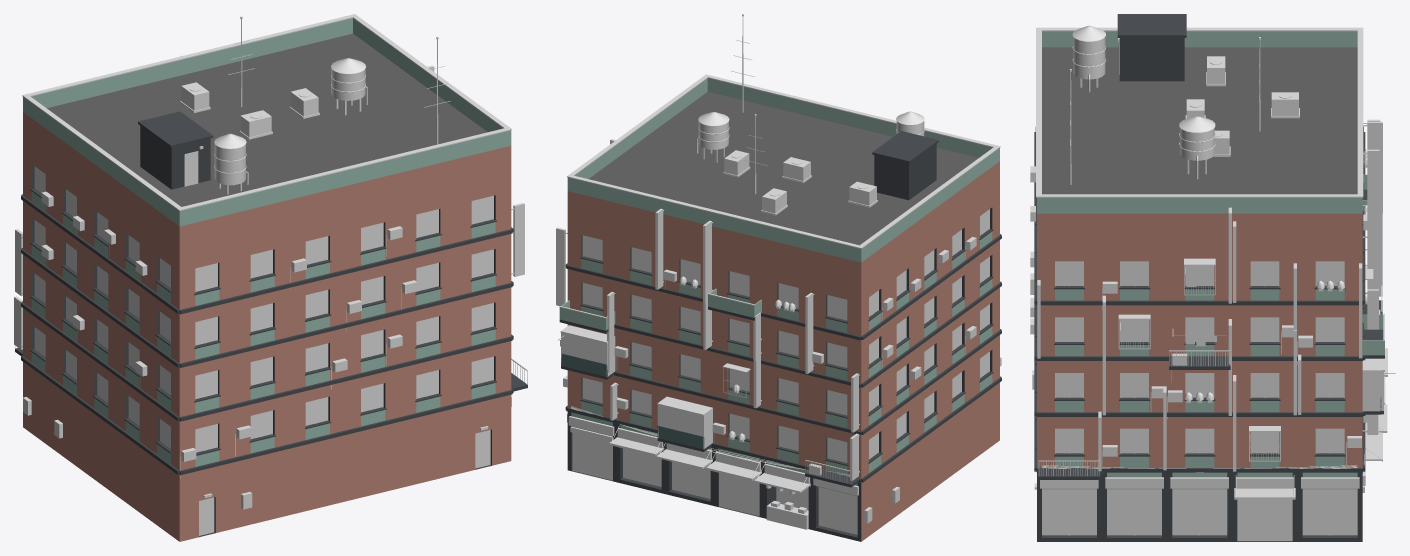
File: Plaza_Block_06.fbx
3 renders of one model, left to right at view 1: azimuth 30°, elevation 25°; view 2: azimuth 150°, elevation 25°; view 3: azimuth 270°, elevation 25°, orthographic. The views are drawn at different scales.
Visible parts, largest first — view 1: Plaza_Block_06_LOD0; view 2: Plaza_Block_06_LOD0; view 3: Plaza_Block_06_LOD0.
Part boxes in pixels (<box>): Plaza_Block_06_LOD0: <box>14,14,527,541</box>; Plaza_Block_06_LOD0: <box>556,14,1001,541</box>; Plaza_Block_06_LOD0: <box>1030,14,1395,541</box>.
Size of what is drawn, in the model's own units: 24.51 by 27.02 by 20.19.
